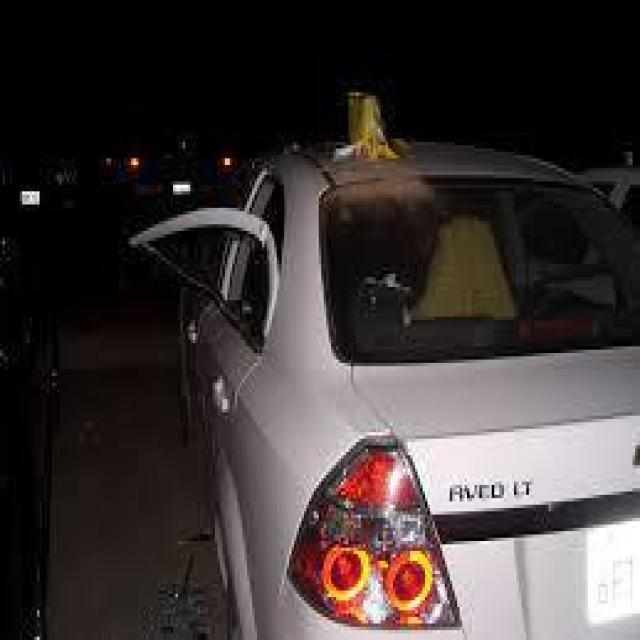damaged: (126, 204, 284, 307)
